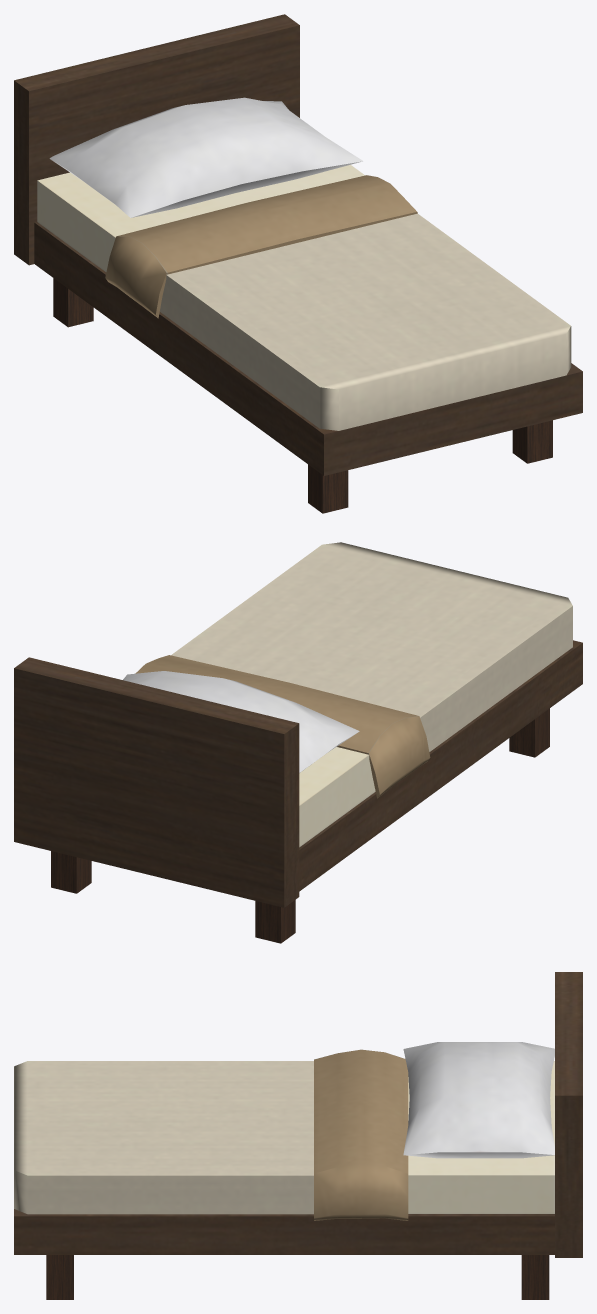
Rendered from Bed_1B.fbx.
The picture shows the model from 3 angles, top to bottom: view 1: azimuth 30°, elevation 25°; view 2: azimuth 150°, elevation 25°; view 3: azimuth 270°, elevation 25°; orthographic projection. The views are drawn at different scales.
Parts seen in each view (by area): view 1: polySurface1557; view 2: polySurface1557; view 3: polySurface1557.
Boxes of the visible parts, bbox=[...] form: polySurface1557: bbox=[14, 14, 582, 513]; polySurface1557: bbox=[14, 542, 582, 943]; polySurface1557: bbox=[14, 972, 582, 1299].
Bounding box in the file's own units: 2.11 × 1.65 × 4.
